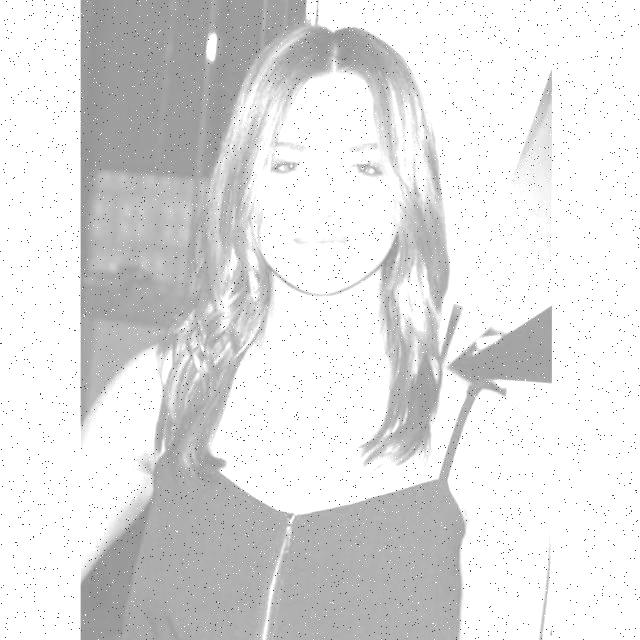real: (242, 84, 403, 300)
